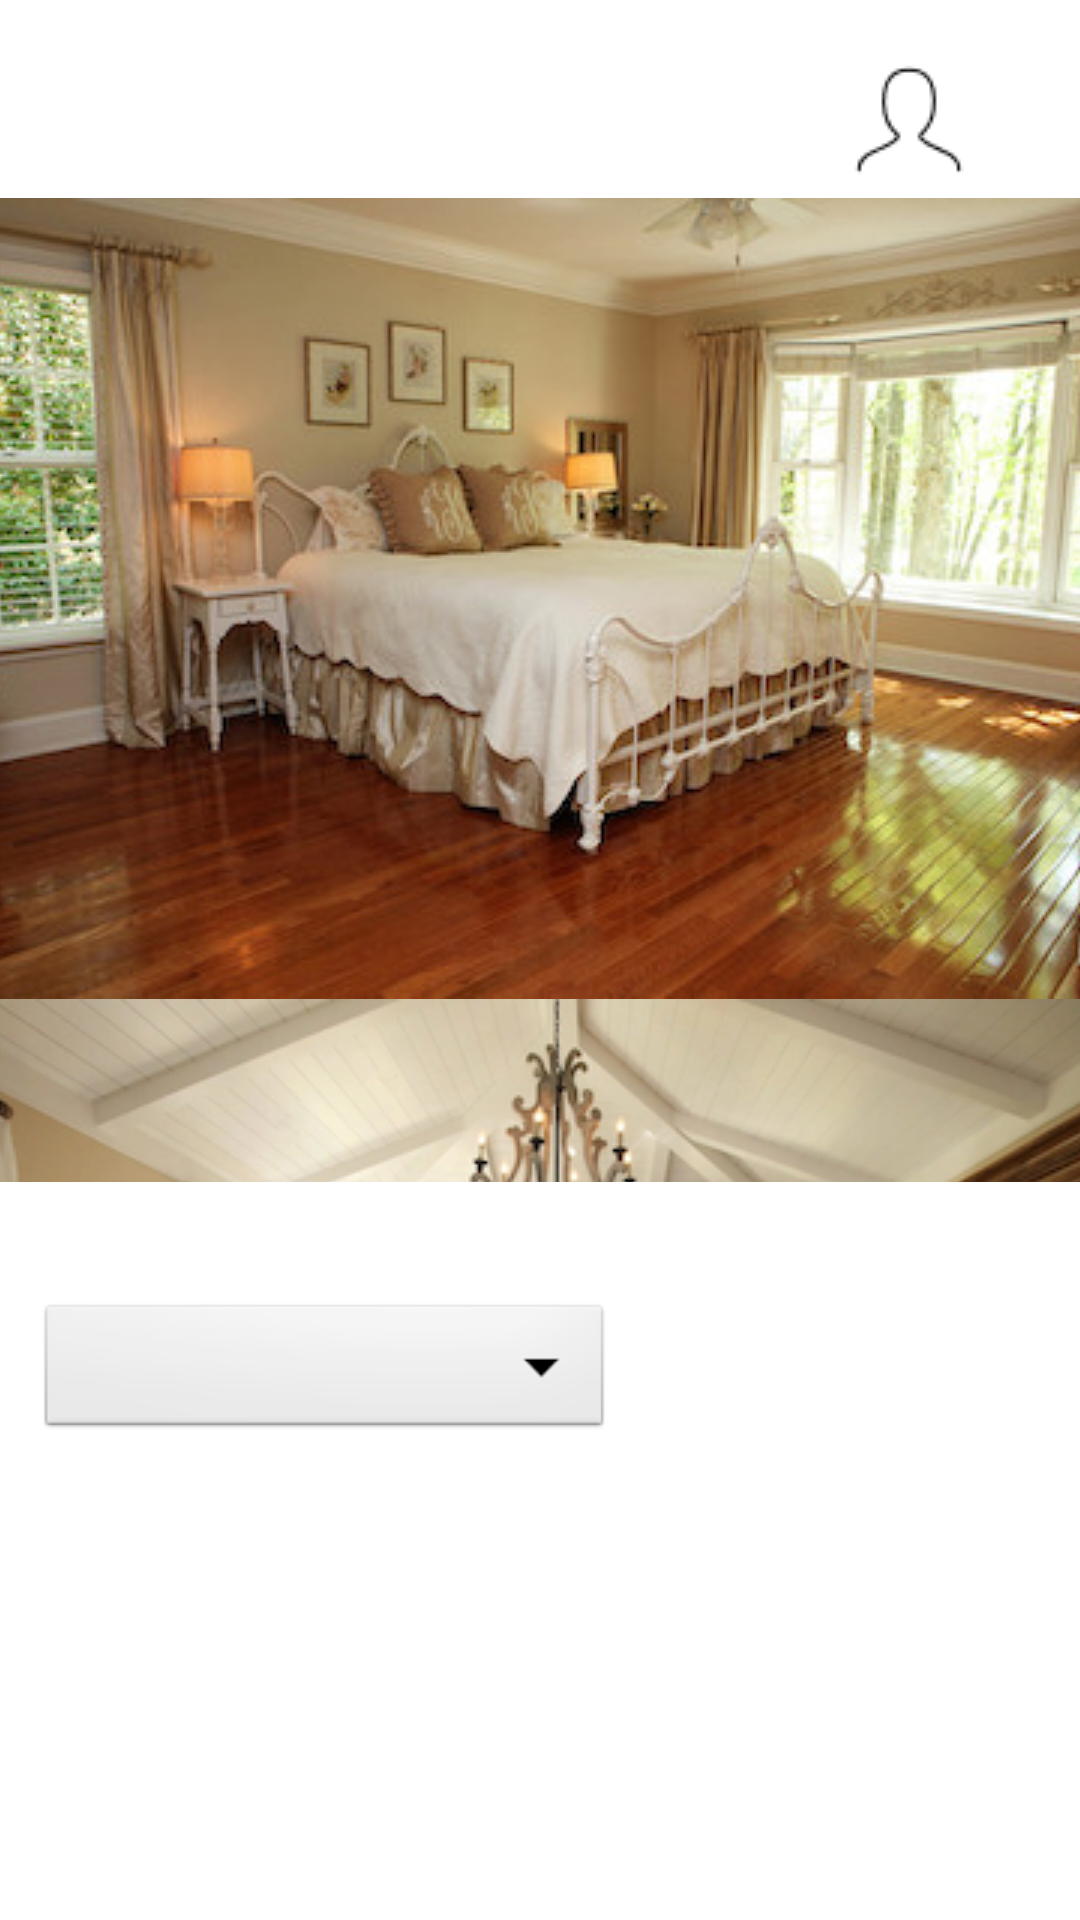

Screen size 1080*1920. Icon name, then its box in pixels as (x1, y1, x2, y2):
usericon: (856, 67, 962, 172)
